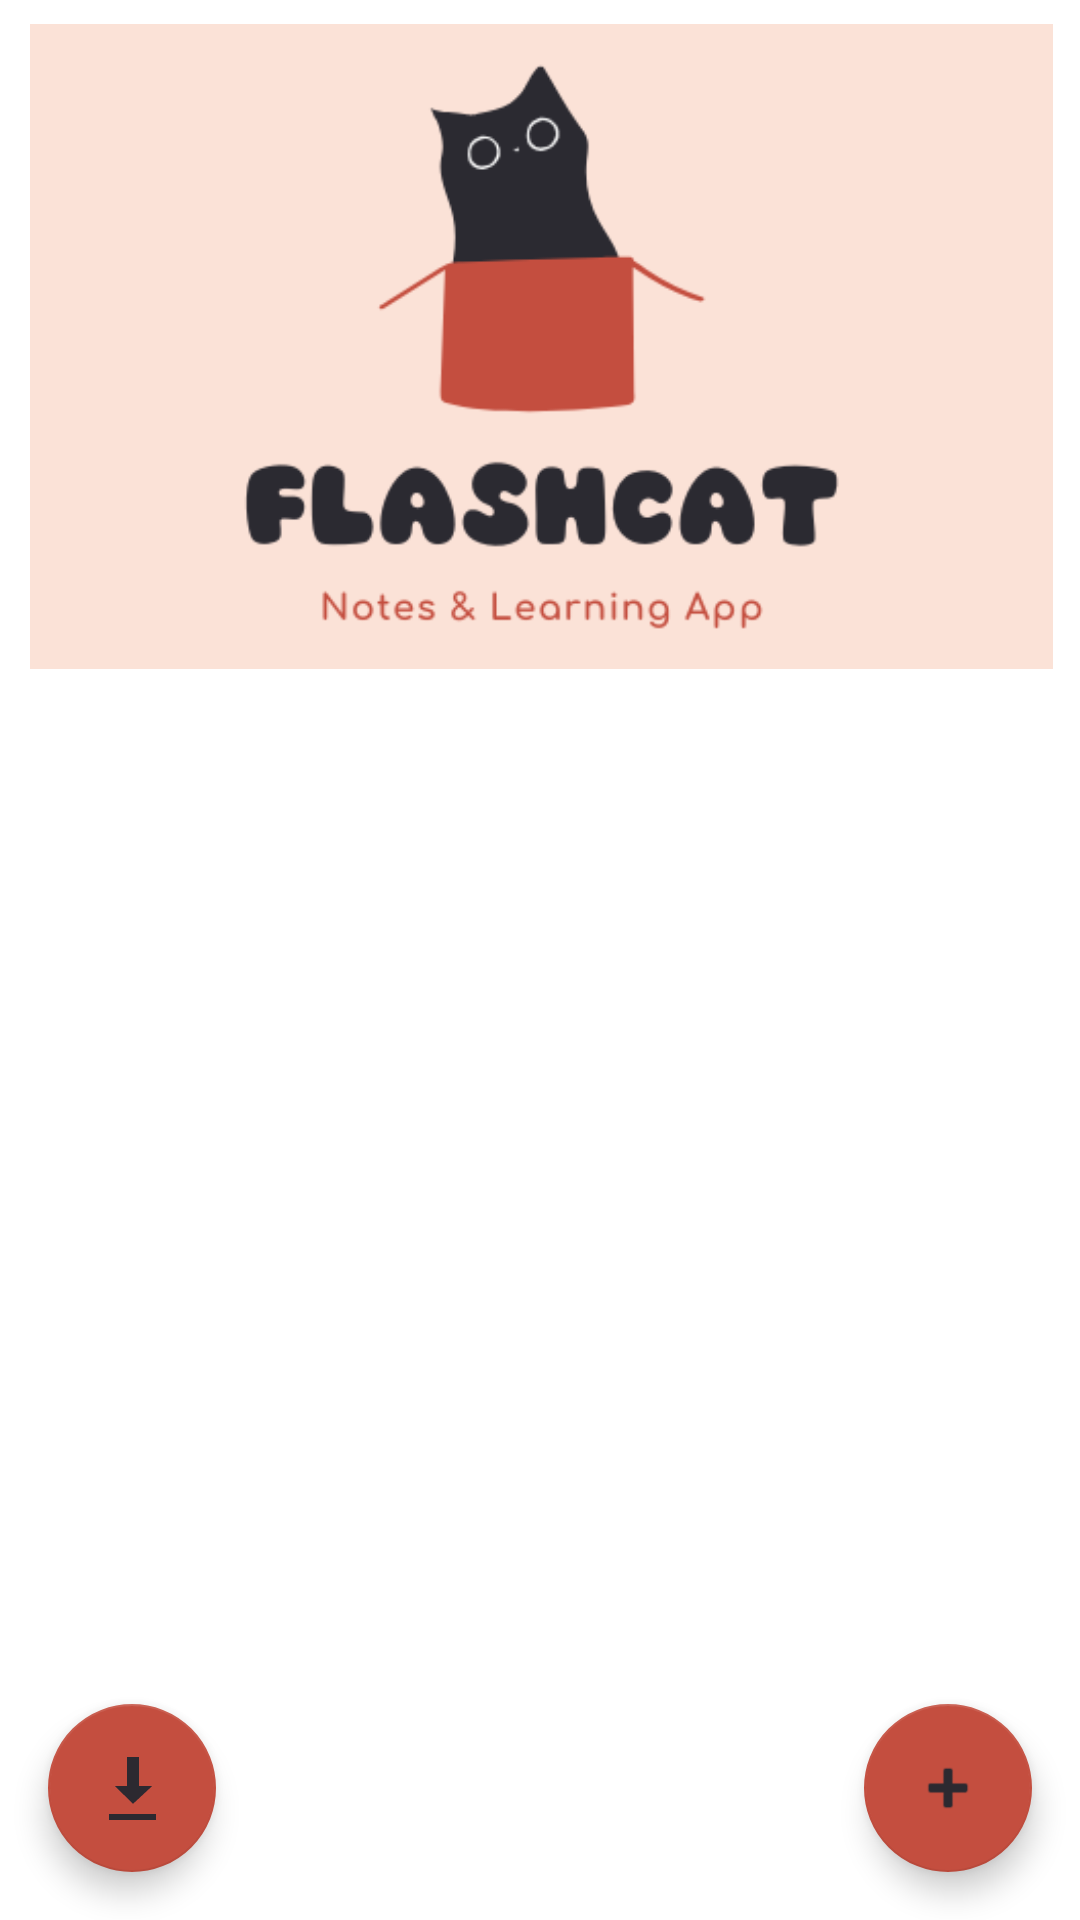

Locate icon controls on the screen. Image size 1080 x 1920, boxes as bbox(x1, y1, x2, y2).
Create new Group: bbox(864, 1704, 1032, 1872)
download: bbox(48, 1704, 216, 1872)
